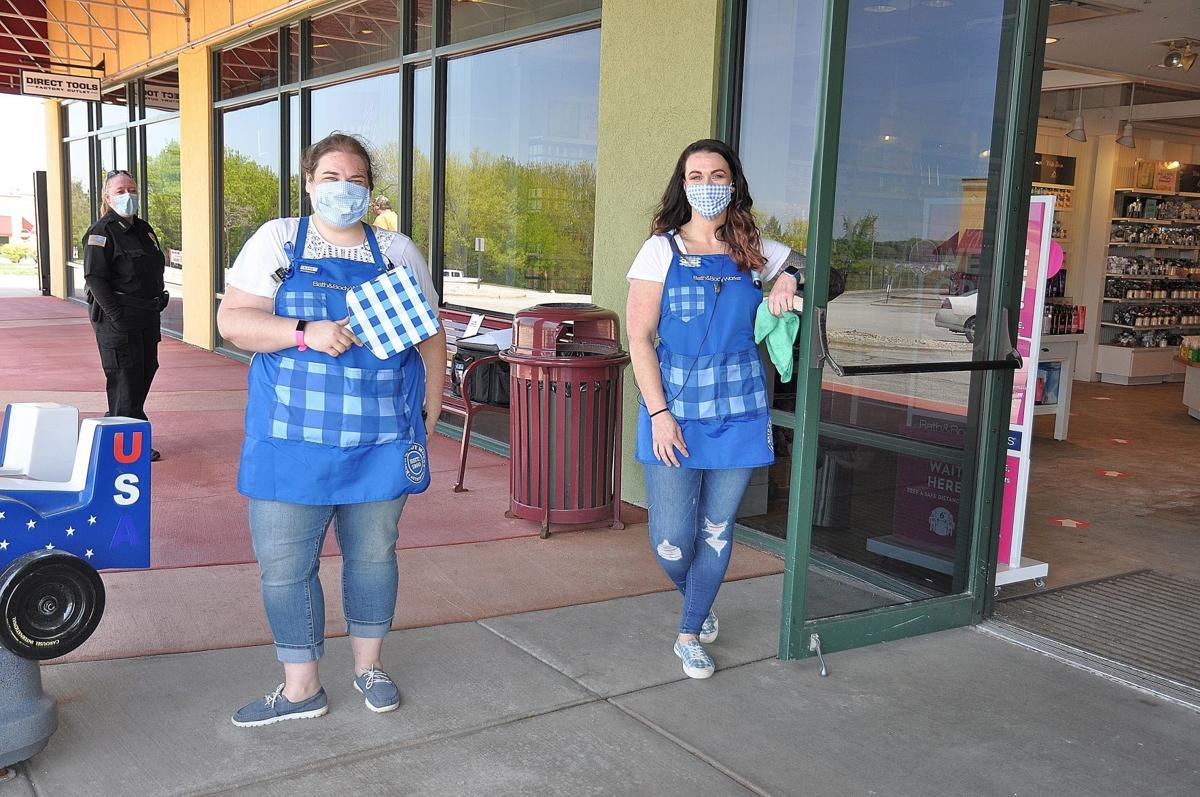Person: (215, 130, 446, 726), (627, 138, 804, 680), (83, 169, 170, 417)
